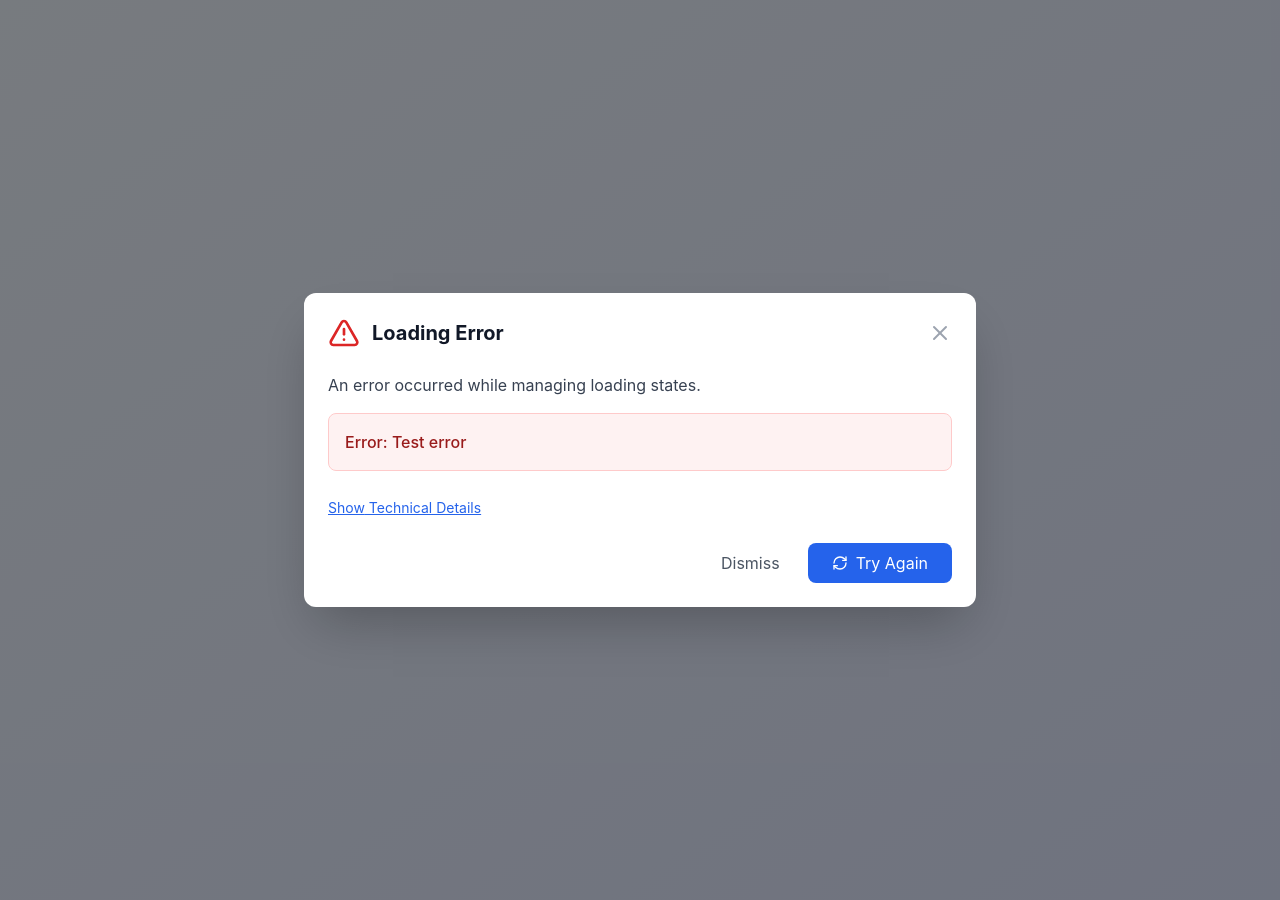
Test case: LoadingErrorBoundary › Technical Details › should display loading context when available
The width and height of the screenshot is (1280, 900).
Click the button "Show Technical Details": [405, 508] box left=328, top=498, right=481, bottom=518
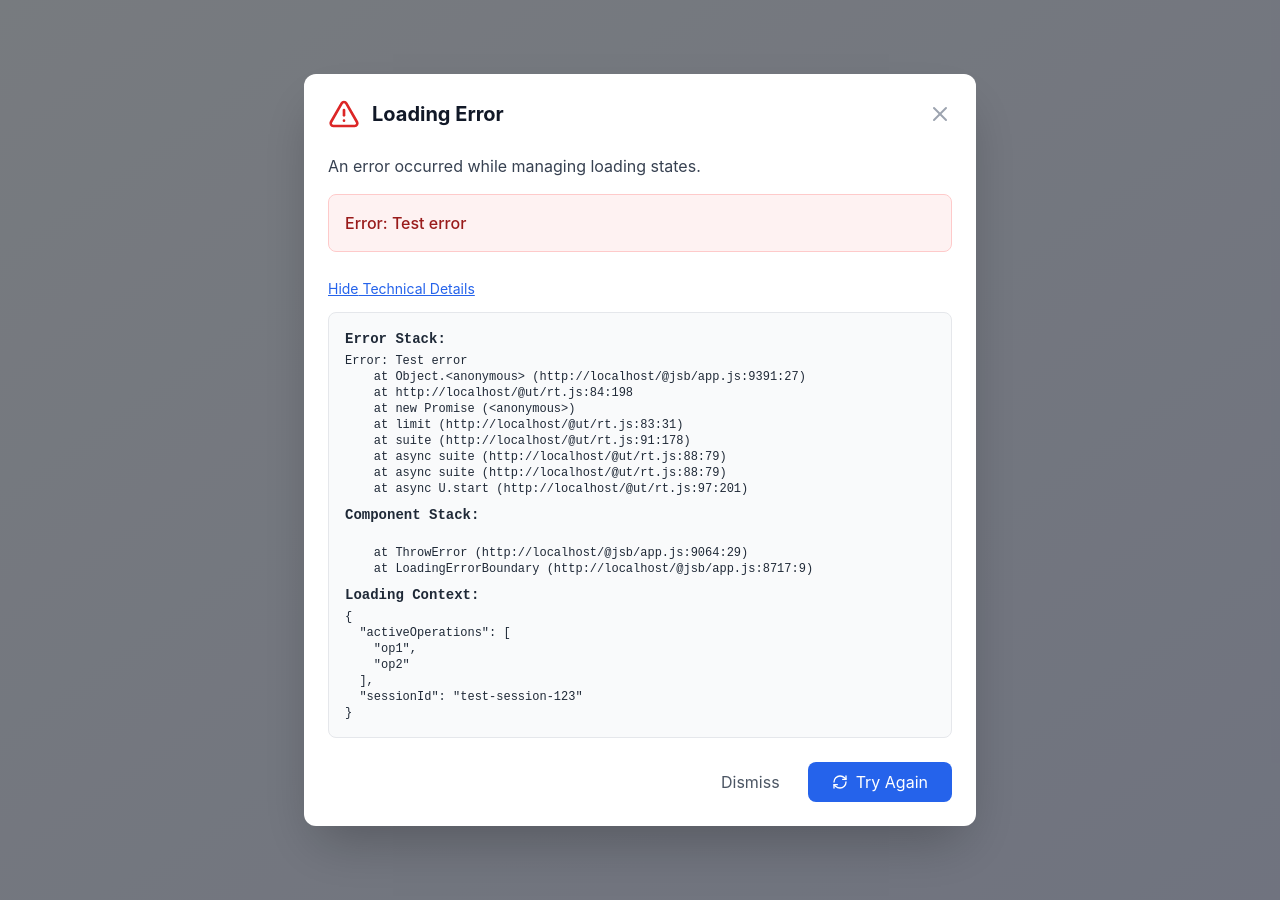
expect the text "Loading Context:" is shown: met, box left=345, top=587, right=479, bottom=603
